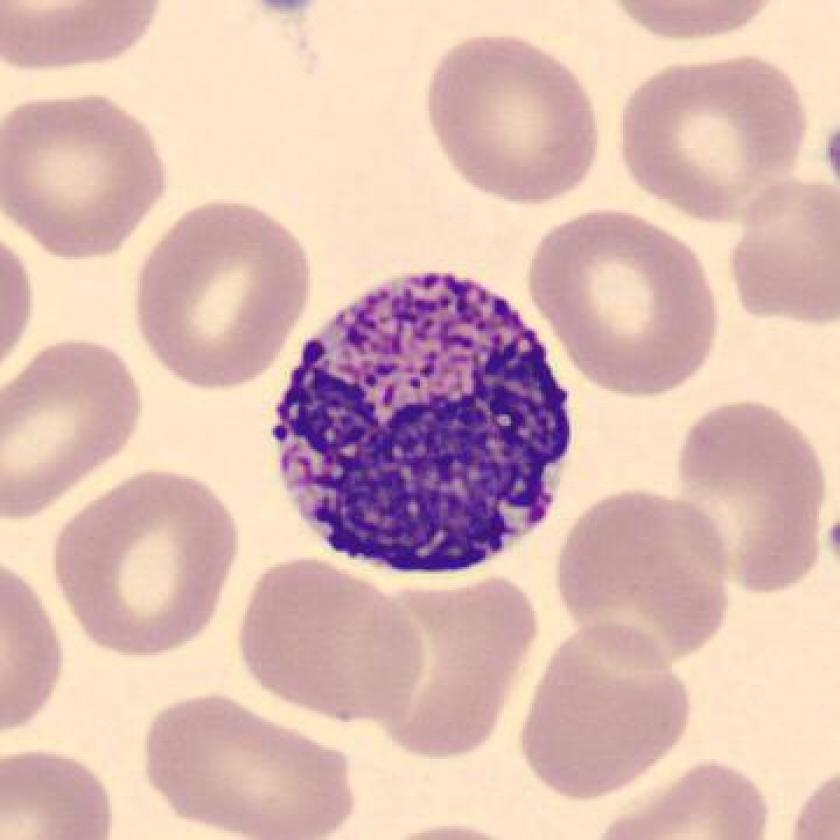basophil: (267, 265, 587, 577)
